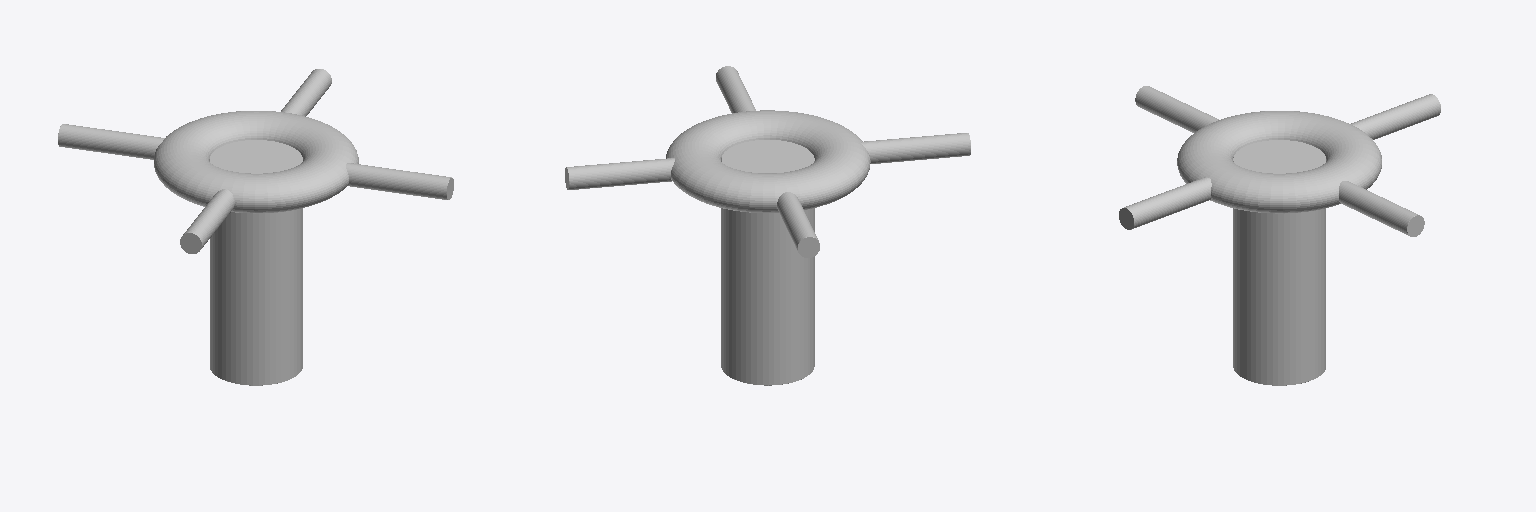
File: Rt-BarreCoop.obj
The picture shows the model from 3 angles: view 1: azimuth 30°, elevation 25°; view 2: azimuth 150°, elevation 25°; view 3: azimuth 270°, elevation 25°; orthographic projection.
Parts seen in each view (by area): view 1: Rt-BarreCoop_AxeBarre.001_Cylinder.008; view 2: Rt-BarreCoop_AxeBarre.001_Cylinder.008; view 3: Rt-BarreCoop_AxeBarre.001_Cylinder.008.
Boxes of the visible parts, <box> form: Rt-BarreCoop_AxeBarre.001_Cylinder.008: <box>58,69,453,385</box>; Rt-BarreCoop_AxeBarre.001_Cylinder.008: <box>565,66,970,385</box>; Rt-BarreCoop_AxeBarre.001_Cylinder.008: <box>1119,86,1440,385</box>.
Size of the model in its own units: 1.53 by 1.15 by 1.53.